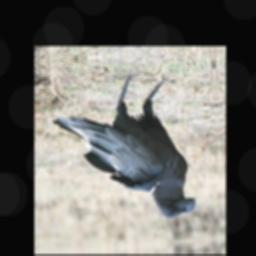Crow: (50, 68, 200, 229)
